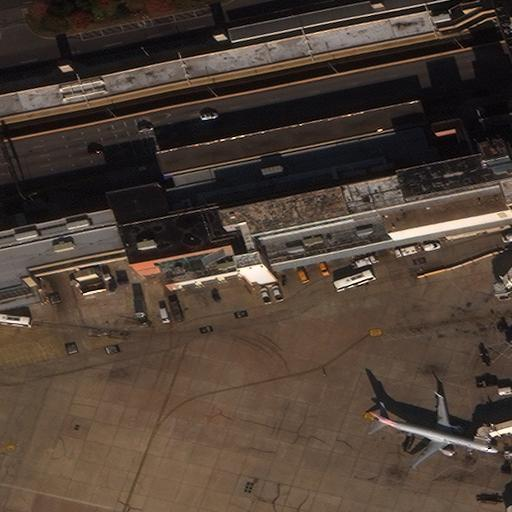Medium Civil Transport: (369, 397, 498, 466)
